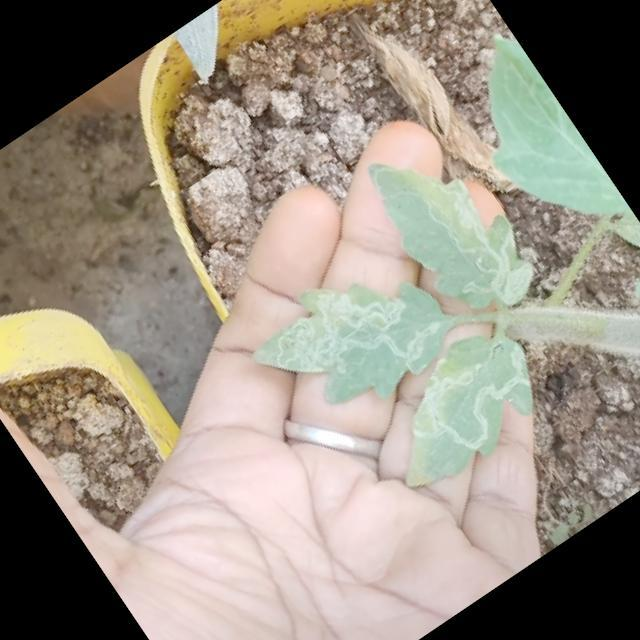Tomato healthy leaf: (436, 26, 635, 263)
Tomato target spot leaf: (235, 229, 466, 449), (355, 117, 549, 335), (354, 308, 564, 504)
